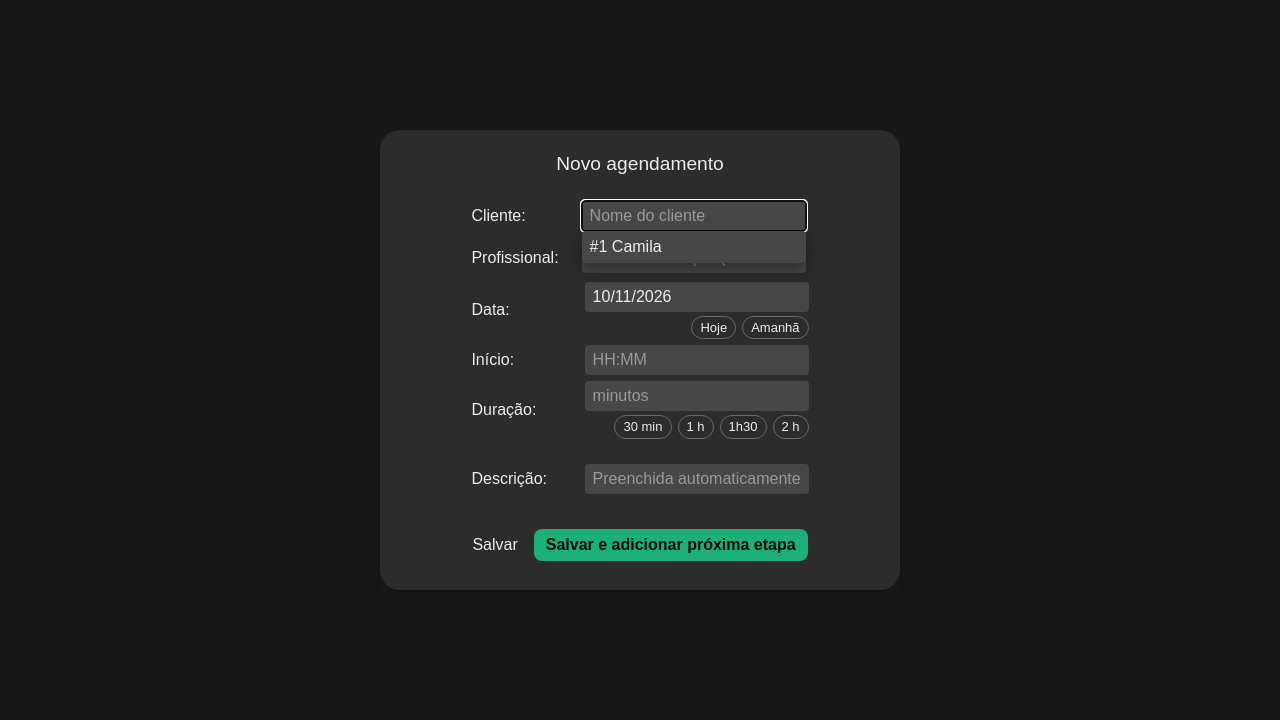
Test: Novo agendamento: conflito de horário › mostra o motivo quando a API recusa por sobreposição (409)
Earlier steps of the test are not shown.
Click the option "#1 Camila".
click(626, 246)  # box 590,238 -> 662,255
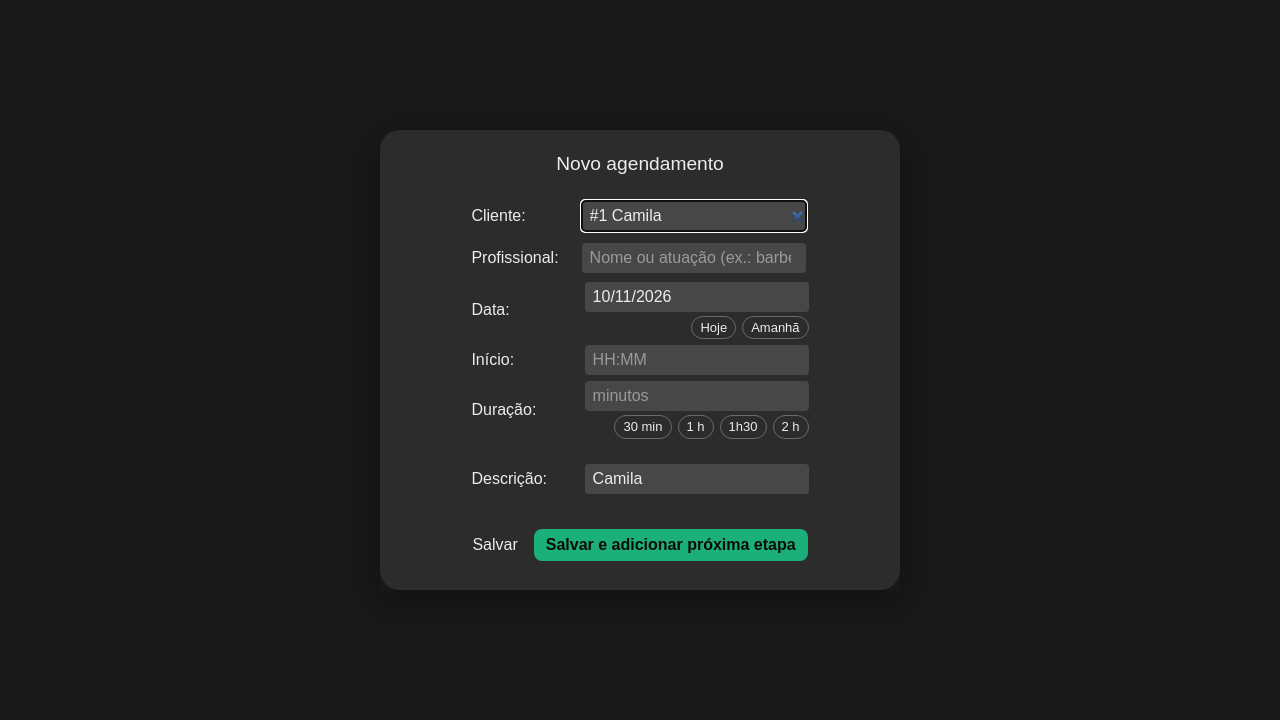
Click the dropdown labelled "Profissional:".
click(694, 258)  # box 582,243 -> 806,273
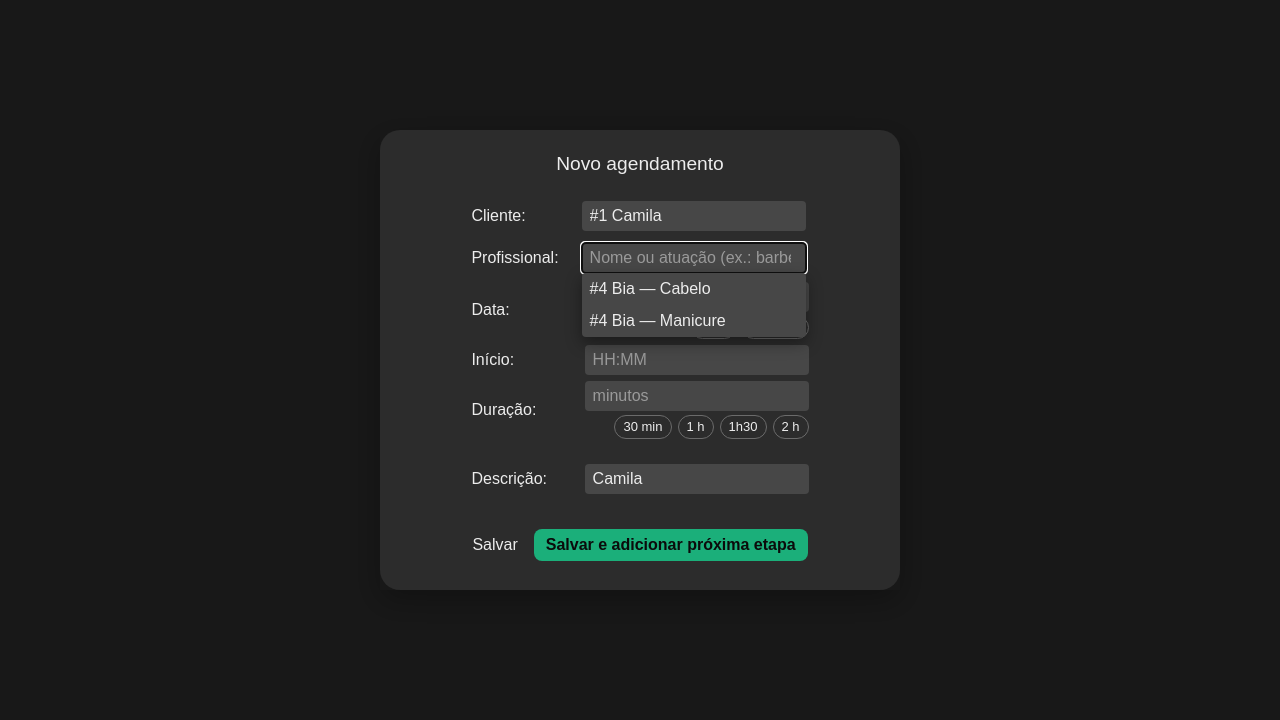
Click the option "#4 Bia — Manicure".
click(658, 320)  # box 590,312 -> 726,329
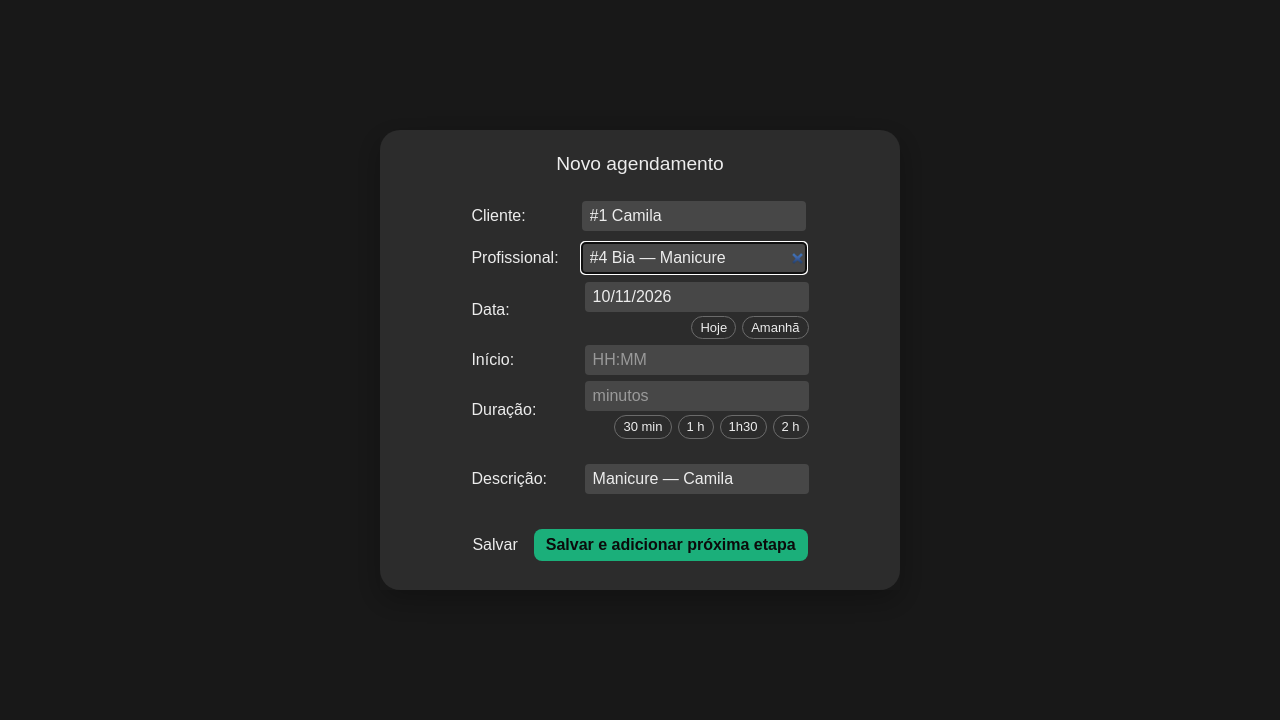
Type "1030" into the field labelled "Início:".
click(697, 360); type("1030")  # box 585,345 -> 809,375
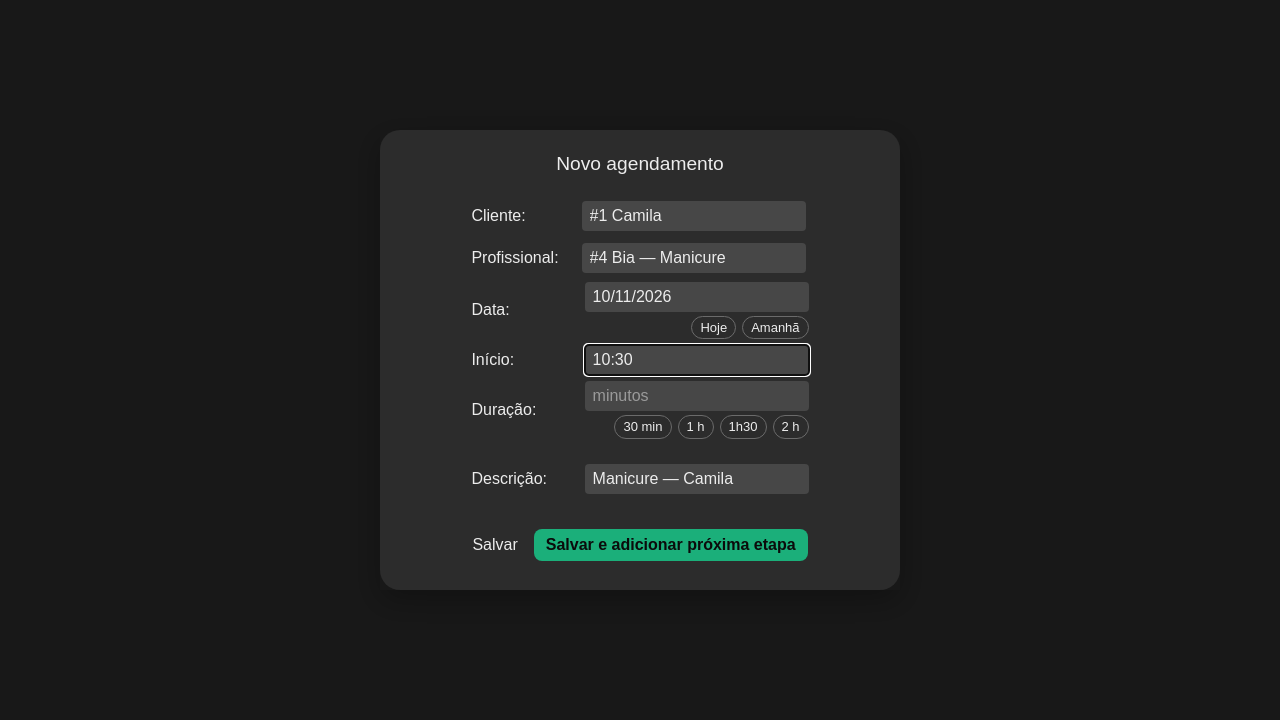
Click the button "1 h".
click(696, 427)  # box 678,415 -> 714,439
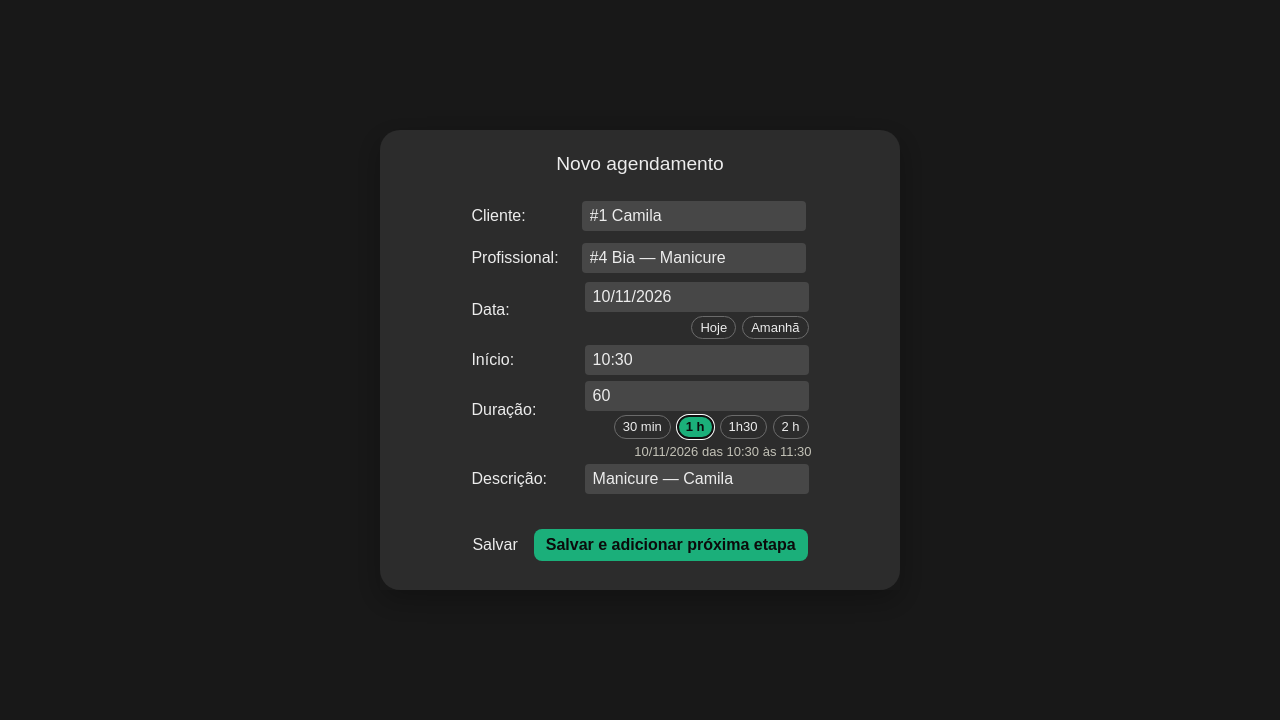
Click the button "Salvar".
click(495, 545)  # box 472,533 -> 518,557
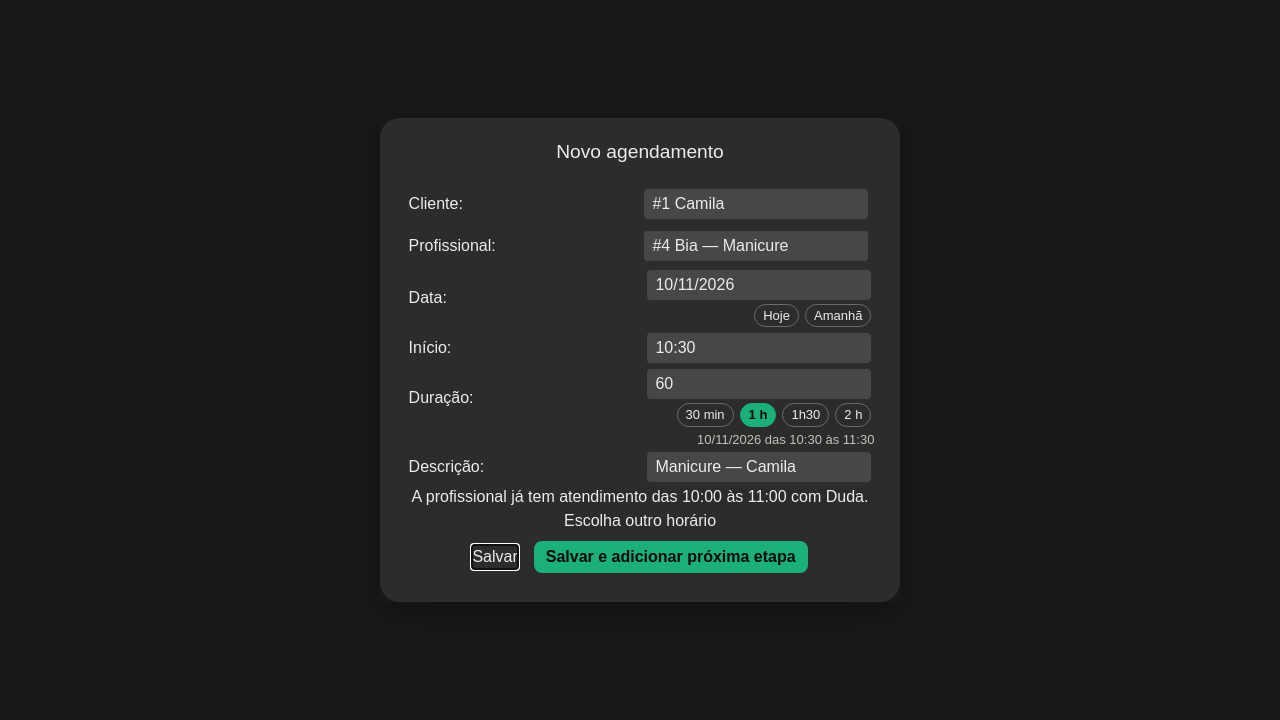
Check: the message shows "já tem atendimento das 10:00 às 11:00", box 412,488 -> 868,529
